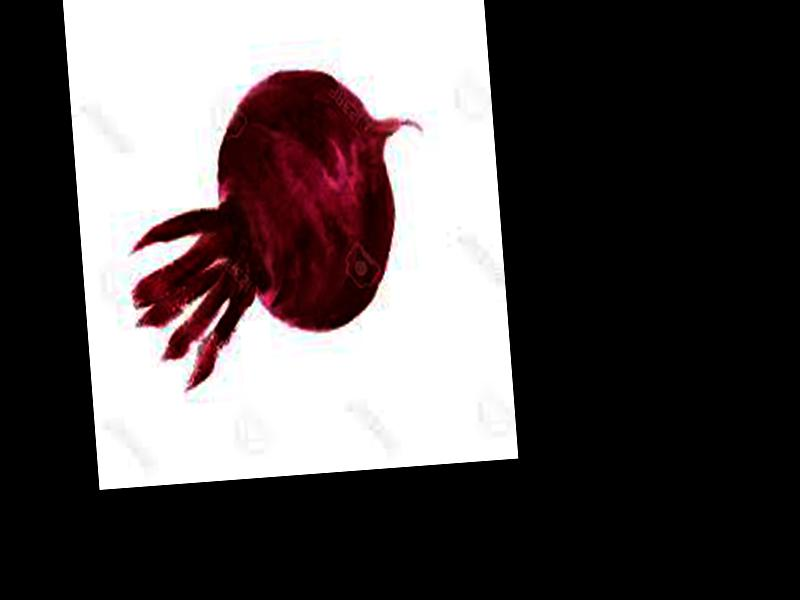Beet: (116, 59, 441, 392)
